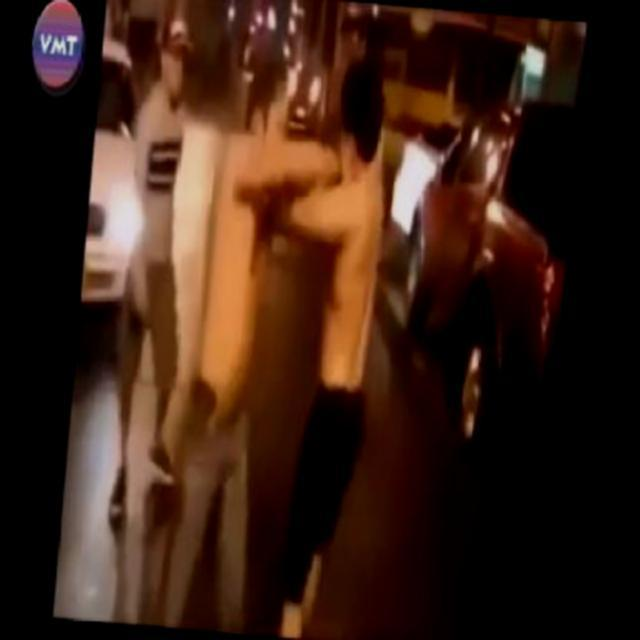fight: (178, 43, 404, 463)
